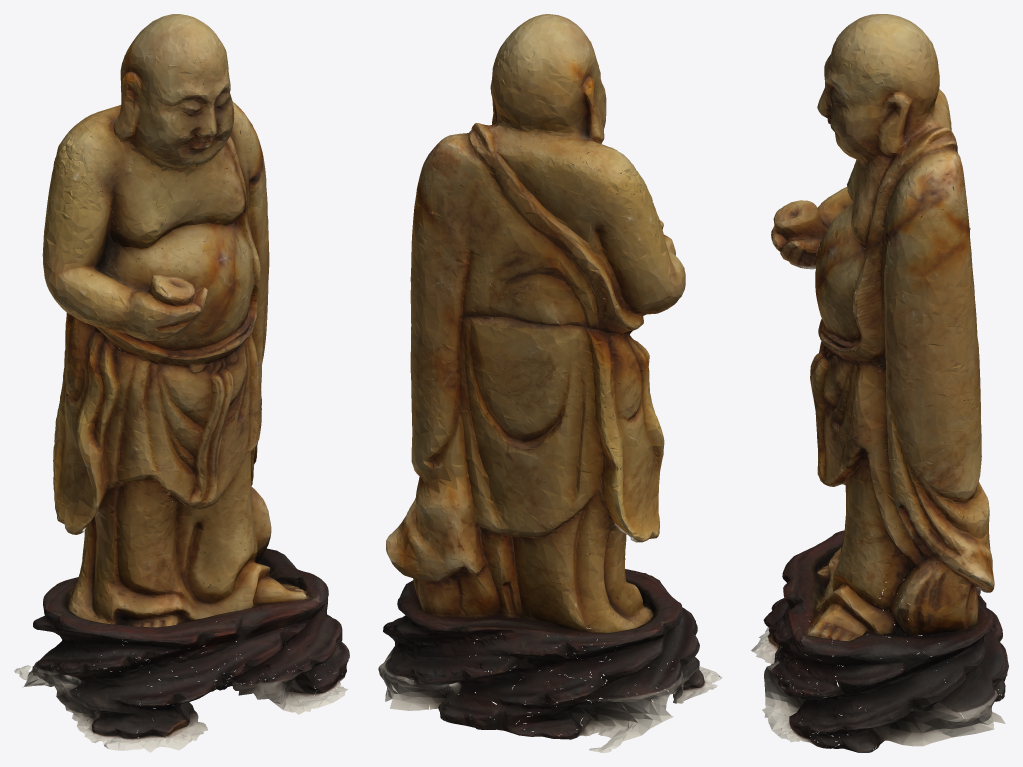
Rendered from earth.glb.
The picture shows the model from 3 angles, left to right: view 1: azimuth 30°, elevation 25°; view 2: azimuth 150°, elevation 25°; view 3: azimuth 270°, elevation 25°; orthographic projection.
Parts seen in each view (by area): view 1: earth (×9); view 2: earth (×9); view 3: earth (×9).
Part boxes in pixels (x1=…): earth (×9): x1=14, y1=14, x2=349, y2=752; earth (×9): x1=378, y1=14, x2=722, y2=752; earth (×9): x1=751, y1=14, x2=1008, y2=752.
Size of the model in its own units: 1.88 by 4.09 by 1.44.
1 material, 1 textured.
